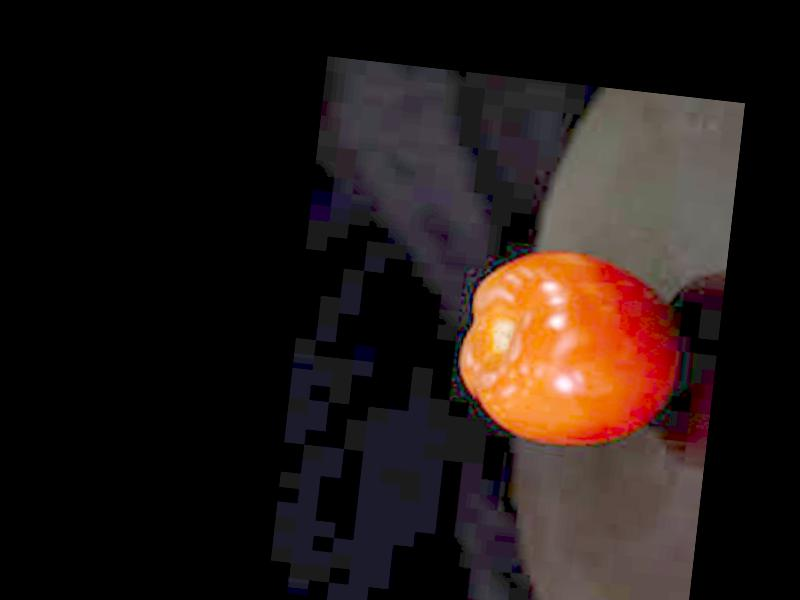Tomato: (448, 239, 689, 459)
